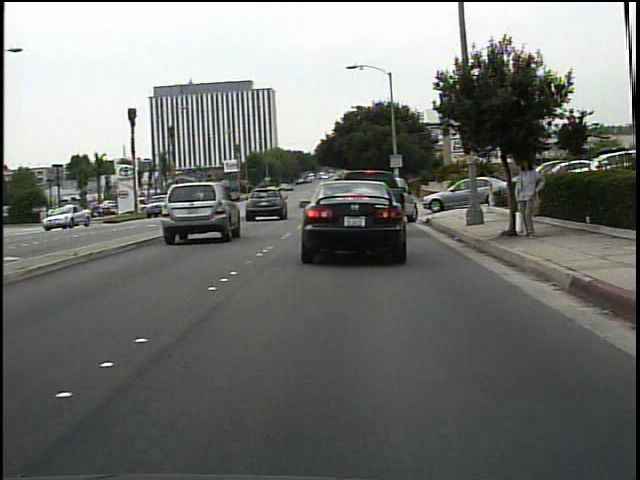person: (509, 155, 546, 243)
